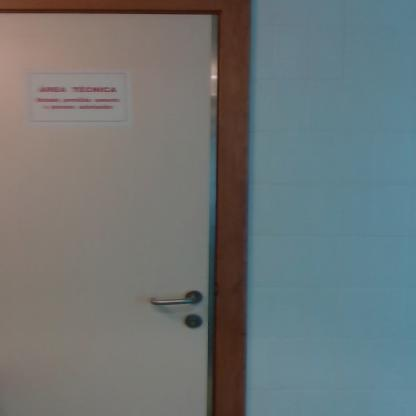door: (0, 11, 216, 415)
lever: (148, 294, 198, 306)
